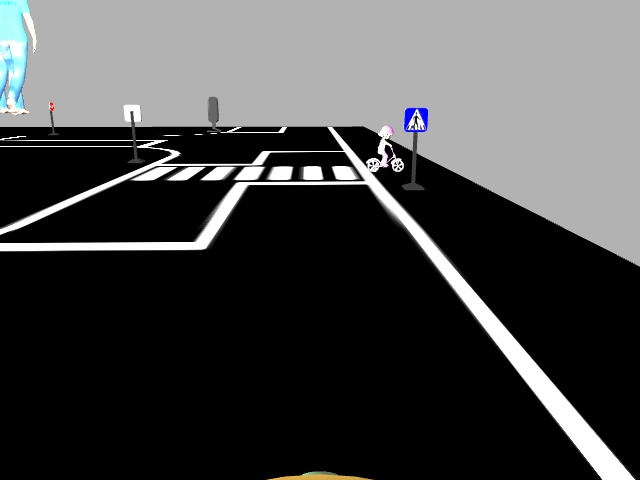Pedestrian: (361, 123, 405, 175)
